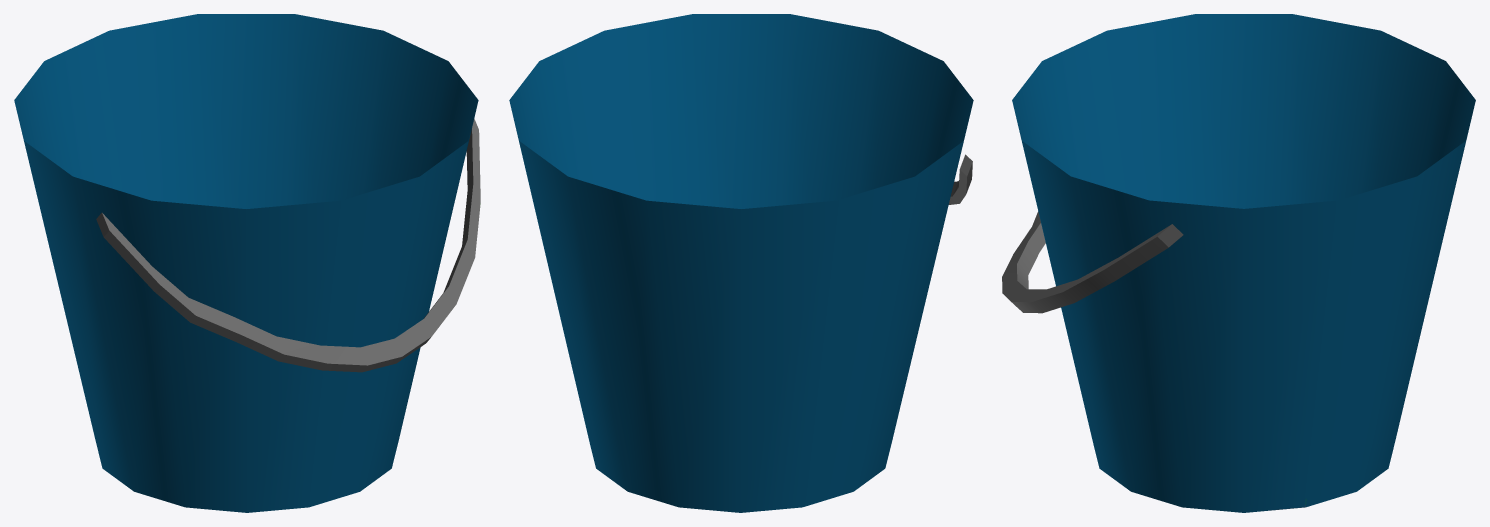
The model's file is Bucket Textured.fbx.
3 views of the same model, side by side, from view 1: azimuth 30°, elevation 25°; view 2: azimuth 150°, elevation 25°; view 3: azimuth 270°, elevation 25° (orthographic).
Visible parts, largest first — view 1: pCylinder1, pCube1; view 2: pCylinder1, pCube1; view 3: pCylinder1, pCube1.
Boxes of the visible parts, x1,y1,x2,y2 form: pCylinder1: [14, 14, 478, 512]; pCube1: [96, 119, 480, 372]; pCylinder1: [509, 14, 973, 512]; pCube1: [948, 154, 972, 204]; pCylinder1: [1012, 14, 1475, 512]; pCube1: [1002, 211, 1183, 313].
Size of the model in its own units: 2.42 by 1.96 by 2.49.
Materials: 1 (1 with a texture image).
